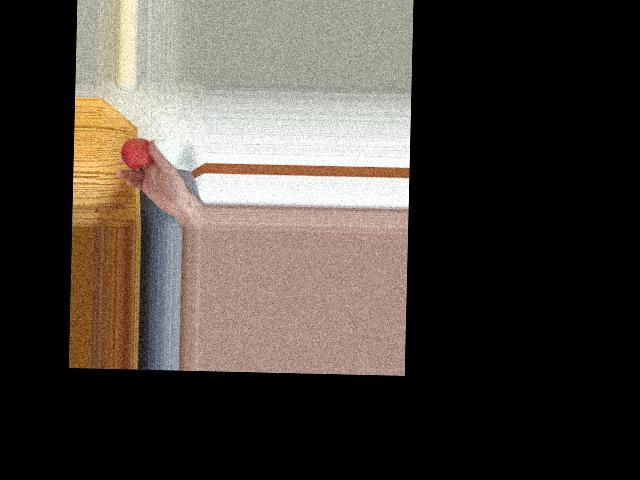apple: (120, 137, 157, 175)
